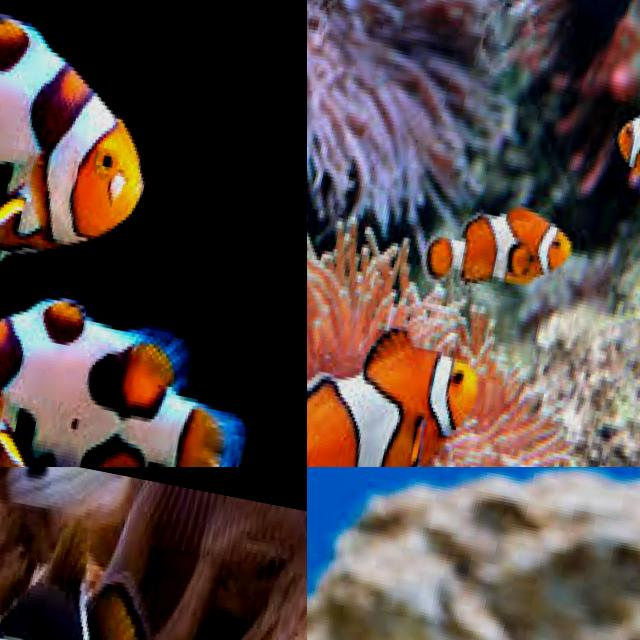Amphiprion-percula: (0, 0, 263, 312), (0, 257, 304, 467), (364, 160, 622, 348), (307, 279, 511, 467), (0, 498, 248, 640), (307, 566, 640, 640), (590, 165, 640, 403), (577, 64, 640, 226)
